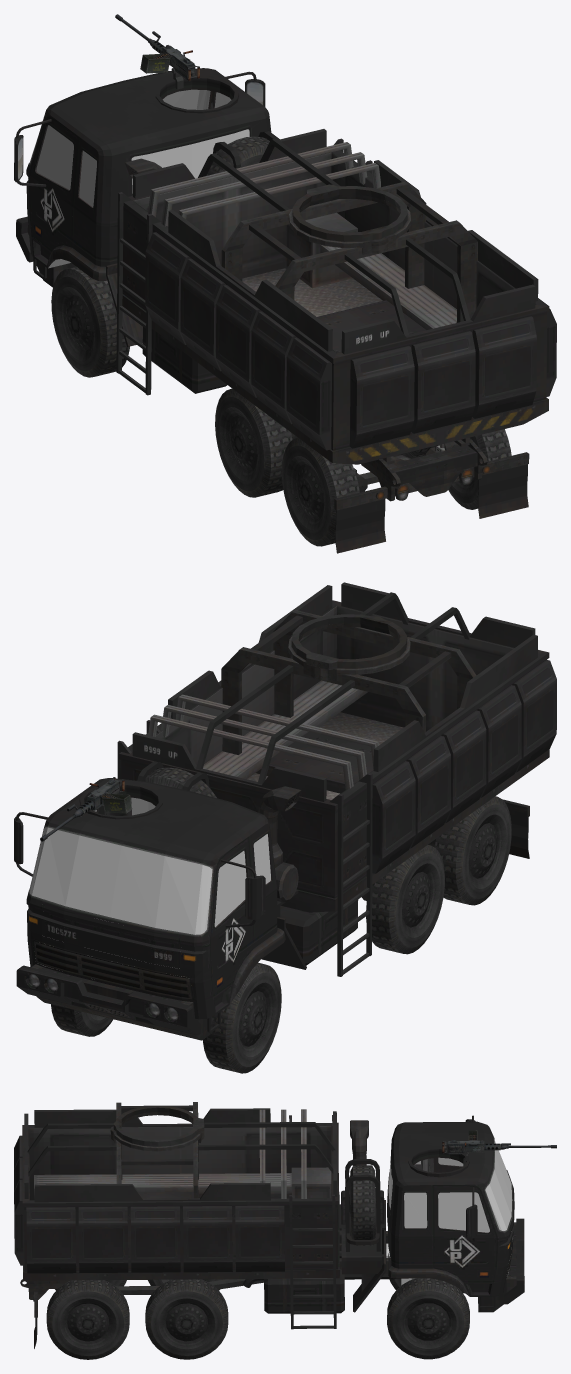
The model's file is Stewart and Stevenson M1083 MTV.obj.
The picture shows the model from 3 angles, top to bottom: view 1: azimuth 30°, elevation 25°; view 2: azimuth 150°, elevation 25°; view 3: azimuth 270°, elevation 25°; orthographic projection. The views are drawn at different scales.
Parts seen in each view (by area): view 1: DrawCall_2364, DrawCall_2377, DrawCall_2365, DrawCall_2389, DrawCall_2391, DrawCall_2627, DrawCall_2374, DrawCall_2380, DrawCall_2624, DrawCall_2369, DrawCall_2626, DrawCall_2517 (+4 smaller); view 2: DrawCall_2364, DrawCall_2377, DrawCall_2624, DrawCall_2365, DrawCall_2391, DrawCall_2627, DrawCall_2389, DrawCall_2381, DrawCall_2382, DrawCall_2380, DrawCall_2378, DrawCall_2369 (+7 smaller); view 3: DrawCall_2364, DrawCall_2377, DrawCall_2392, DrawCall_2390, DrawCall_2393, DrawCall_2379, DrawCall_2365, DrawCall_2624, DrawCall_2388, DrawCall_2625, DrawCall_2369, DrawCall_2517 (+3 smaller).
Boxes of the visible parts, x1,y1,x2,y2 form: DrawCall_2364: (116,129,556,464); DrawCall_2377: (26,68,279,393); DrawCall_2365: (27,181,529,510); DrawCall_2389: (51,266,129,377); DrawCall_2391: (215,388,292,497); DrawCall_2627: (281,437,359,546); DrawCall_2374: (335,464,528,553); DrawCall_2380: (14,116,77,250); DrawCall_2624: (29,89,249,207); DrawCall_2369: (292,184,407,241); DrawCall_2626: (36,125,73,189); DrawCall_2517: (115,14,199,81); DrawCall_2364: (117,582,556,976); DrawCall_2377: (26,761,358,1019); DrawCall_2624: (29,797,270,934); DrawCall_2365: (31,610,529,1040); DrawCall_2391: (366,845,444,954); DrawCall_2627: (434,796,511,905); DrawCall_2389: (203,962,281,1073); DrawCall_2381: (16,965,200,1035); DrawCall_2382: (41,903,181,968); DrawCall_2380: (210,838,265,995); DrawCall_2378: (33,940,192,1000); DrawCall_2369: (291,614,407,669); DrawCall_2364: (14,1105,339,1329); DrawCall_2377: (264,1120,513,1313); DrawCall_2392: (145,1279,228,1359); DrawCall_2390: (387,1278,469,1359); DrawCall_2393: (46,1280,129,1359); DrawCall_2379: (433,1185,497,1281); DrawCall_2365: (20,1102,516,1317); DrawCall_2624: (388,1141,512,1230); DrawCall_2388: (349,1165,376,1245); DrawCall_2625: (438,1192,489,1232); DrawCall_2369: (113,1105,204,1146); DrawCall_2517: (442,1130,556,1154).
Bounding box in the file's own units: 2.89 × 3.06 × 7.35.
